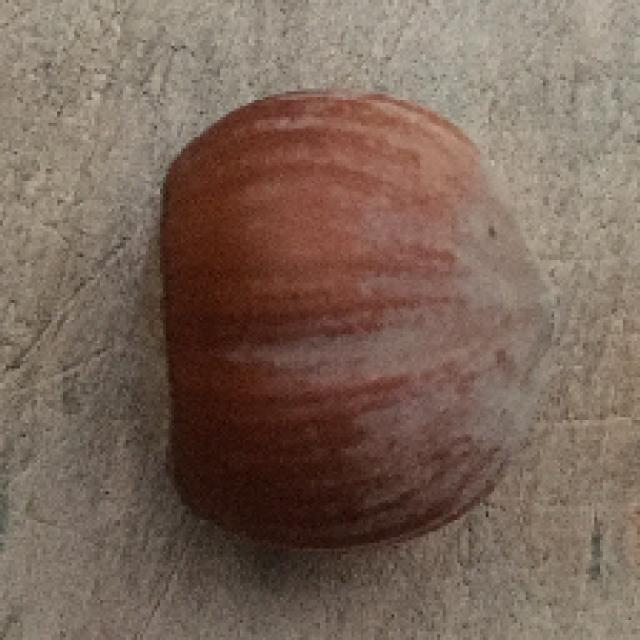qualityHazelnut: (149, 91, 560, 552)
